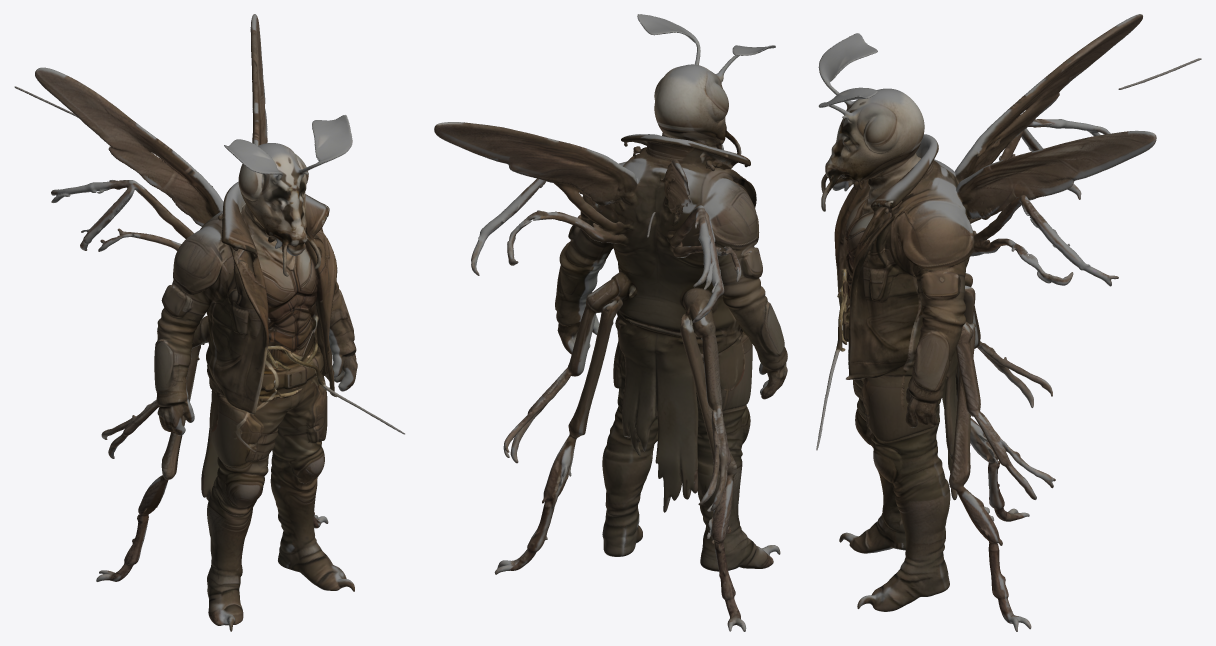
The model's file is insectoid humanoid 3d model.glb.
3 views of the same model, side by side, from view 1: azimuth 30°, elevation 25°; view 2: azimuth 150°, elevation 25°; view 3: azimuth 270°, elevation 25° (orthographic). The views are drawn at different scales.
Visible parts, largest first — view 1: tripo_node_a2c6c61d-73f6-4ff1-a5bb-24f3552b4e85; view 2: tripo_node_a2c6c61d-73f6-4ff1-a5bb-24f3552b4e85; view 3: tripo_node_a2c6c61d-73f6-4ff1-a5bb-24f3552b4e85.
Part boxes in pixels (x1=…): tripo_node_a2c6c61d-73f6-4ff1-a5bb-24f3552b4e85: x1=14, y1=14, x2=404, y2=631; tripo_node_a2c6c61d-73f6-4ff1-a5bb-24f3552b4e85: x1=434, y1=14, x2=787, y2=631; tripo_node_a2c6c61d-73f6-4ff1-a5bb-24f3552b4e85: x1=816, y1=14, x2=1201, y2=631.
Size of the model in its own units: 0.5147 by 1 by 0.6815.
1 material, 1 textured.
